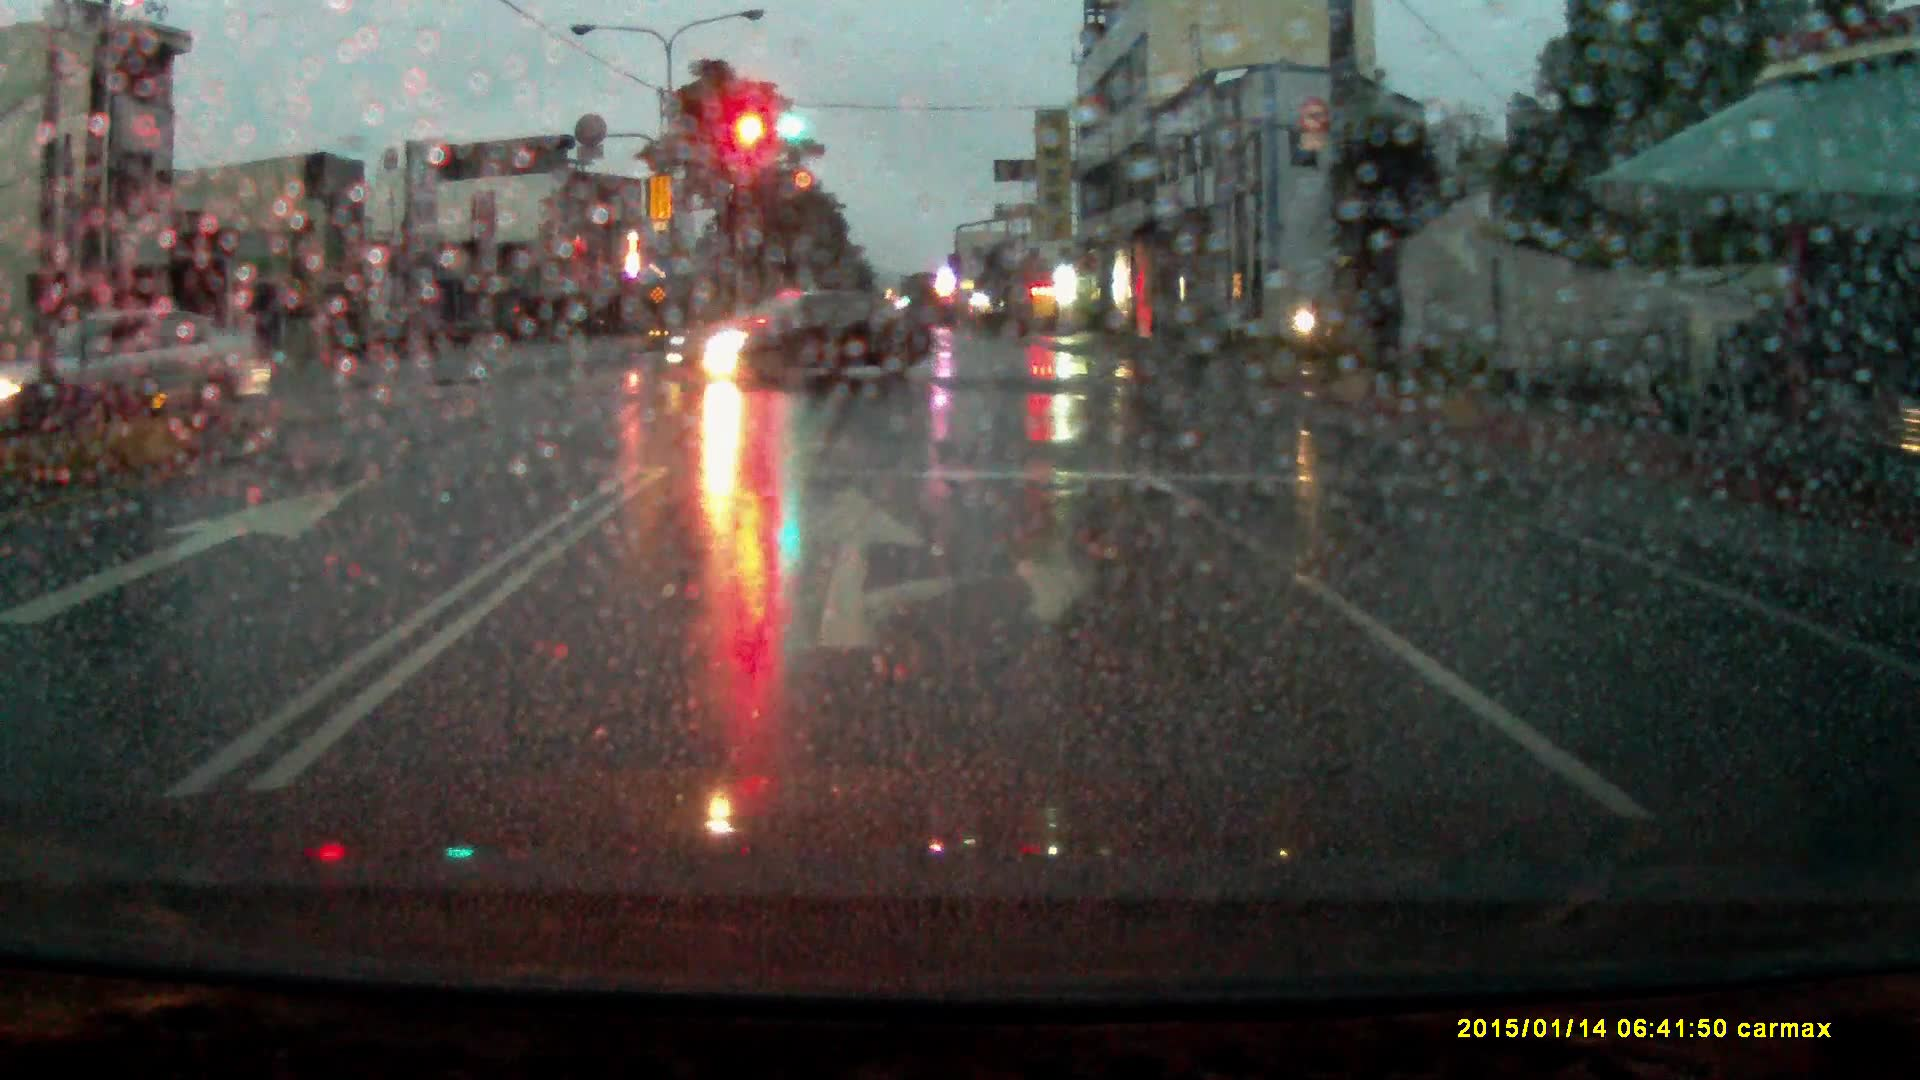rider: (1290, 284, 1329, 352)
vehicle: (8, 307, 276, 424), (661, 289, 926, 393)
